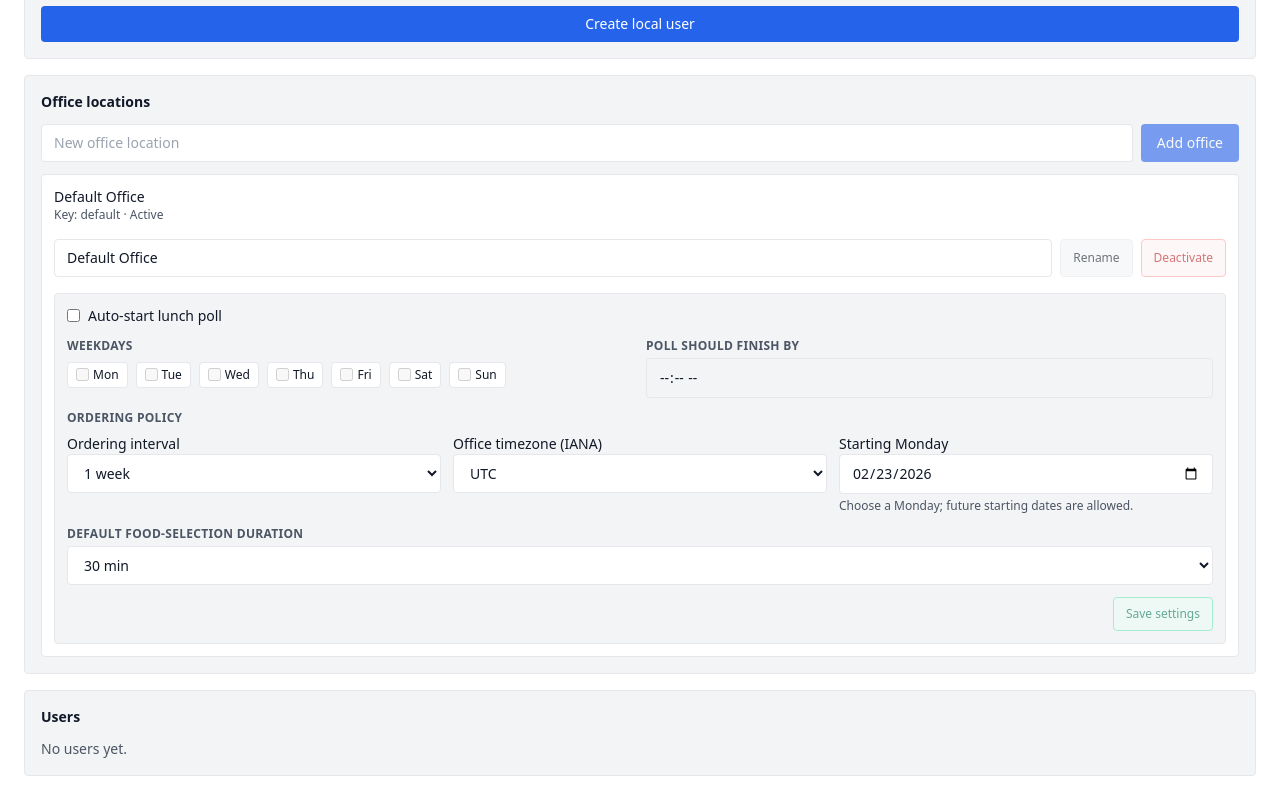
Test: Administration ordering policy persistence › detects changes and reversions independently for all policy fields
The image size is (1280, 800).
(page scrolled)
Step 1. Select "2 weeks" in the dropdown named "Ordering interval for default" → (254, 473), box [67,454,441,492]
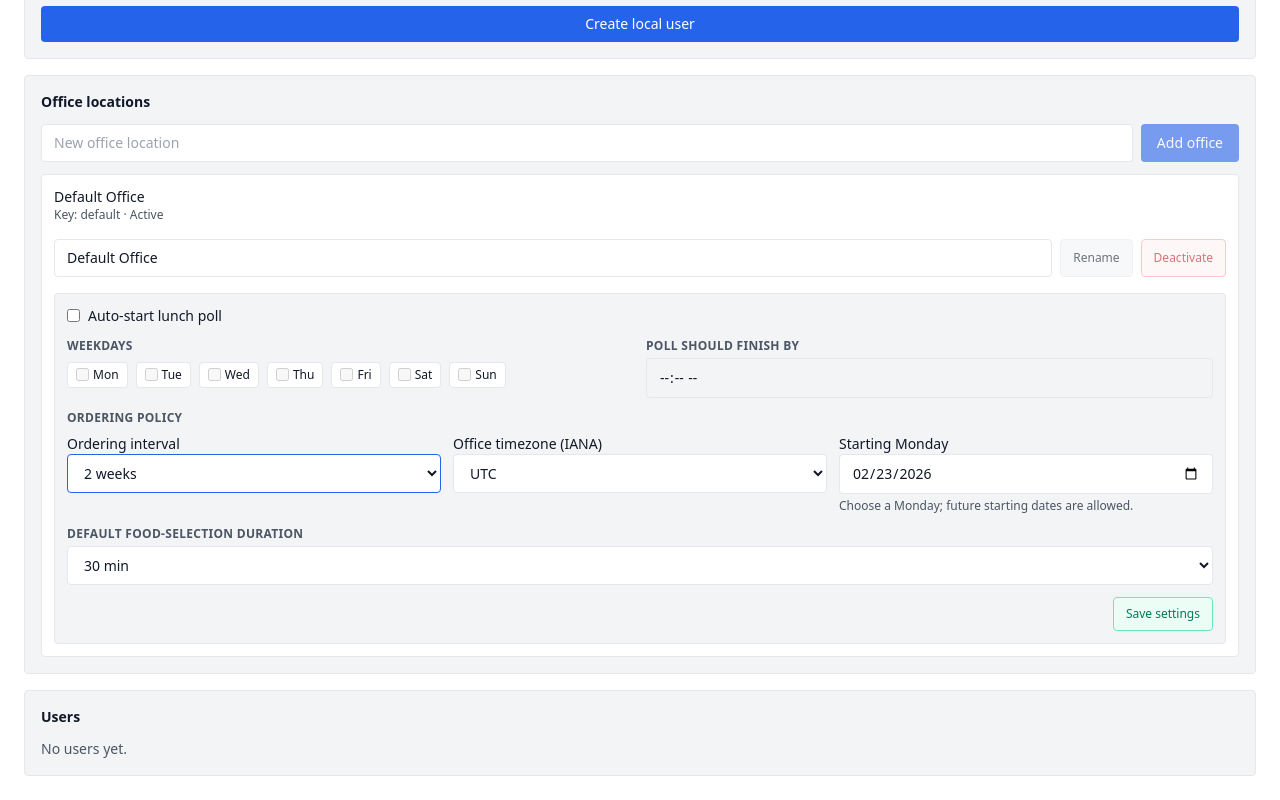
Check: the button with aria-label "Save office settings for default" is enabled, box [1113,596,1213,630]
Step 2. Select "1 week" in the dropdown named "Ordering interval for default" → (254, 473), box [67,454,441,492]
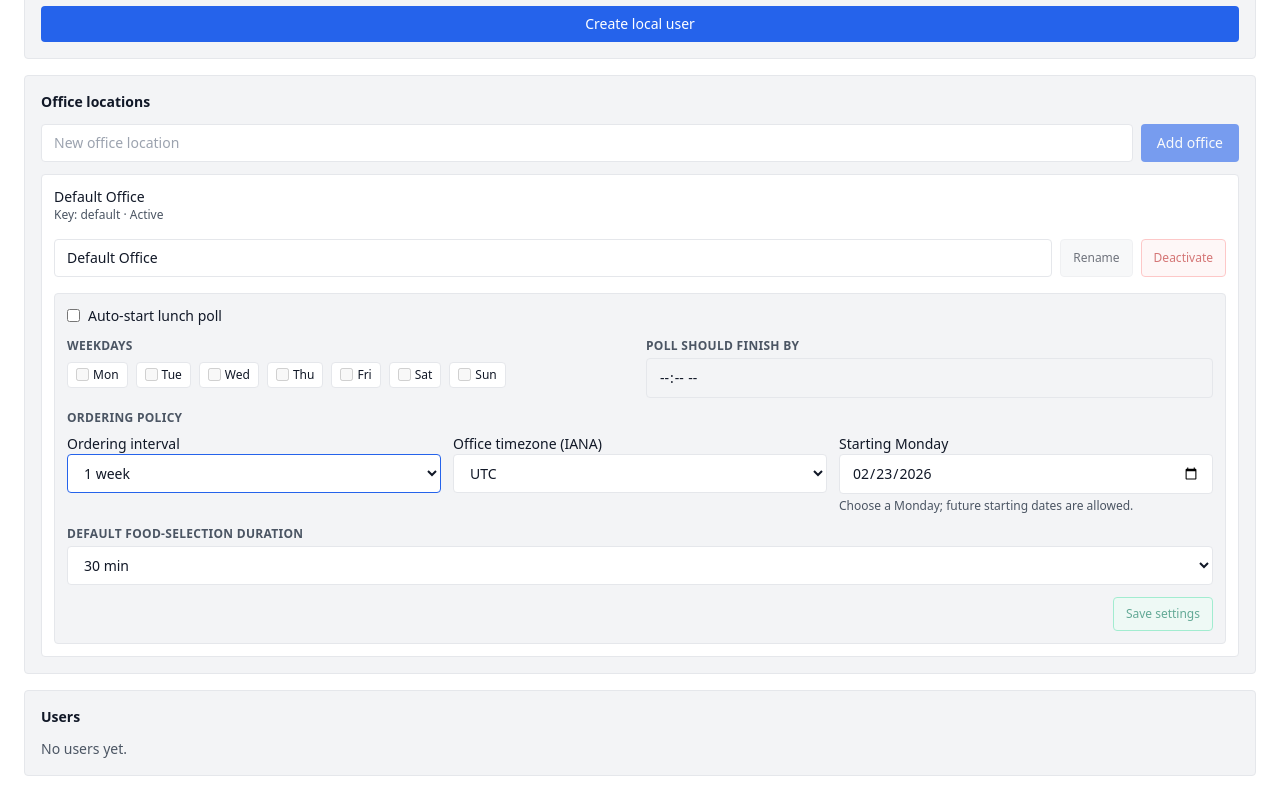
Check: the button with aria-label "Save office settings for default" is disabled, box [1113,596,1213,630]
Step 3. Select "Europe/Vienna" in the dropdown named "Office timezone for default" → (640, 473), box [453,454,827,492]
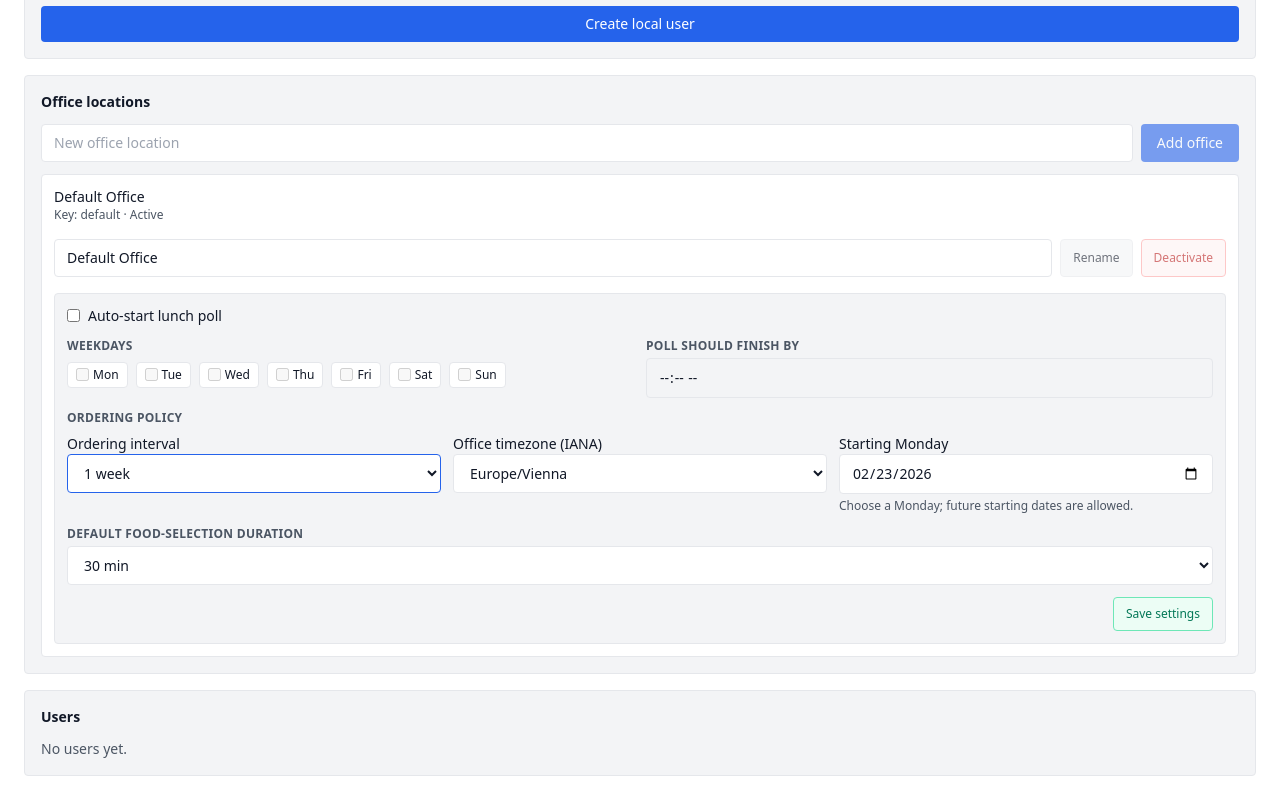
Check: the button with aria-label "Save office settings for default" is enabled, box [1113,596,1213,630]
Step 4. Select "UTC" in the dropdown named "Office timezone for default" → (640, 473), box [453,454,827,492]
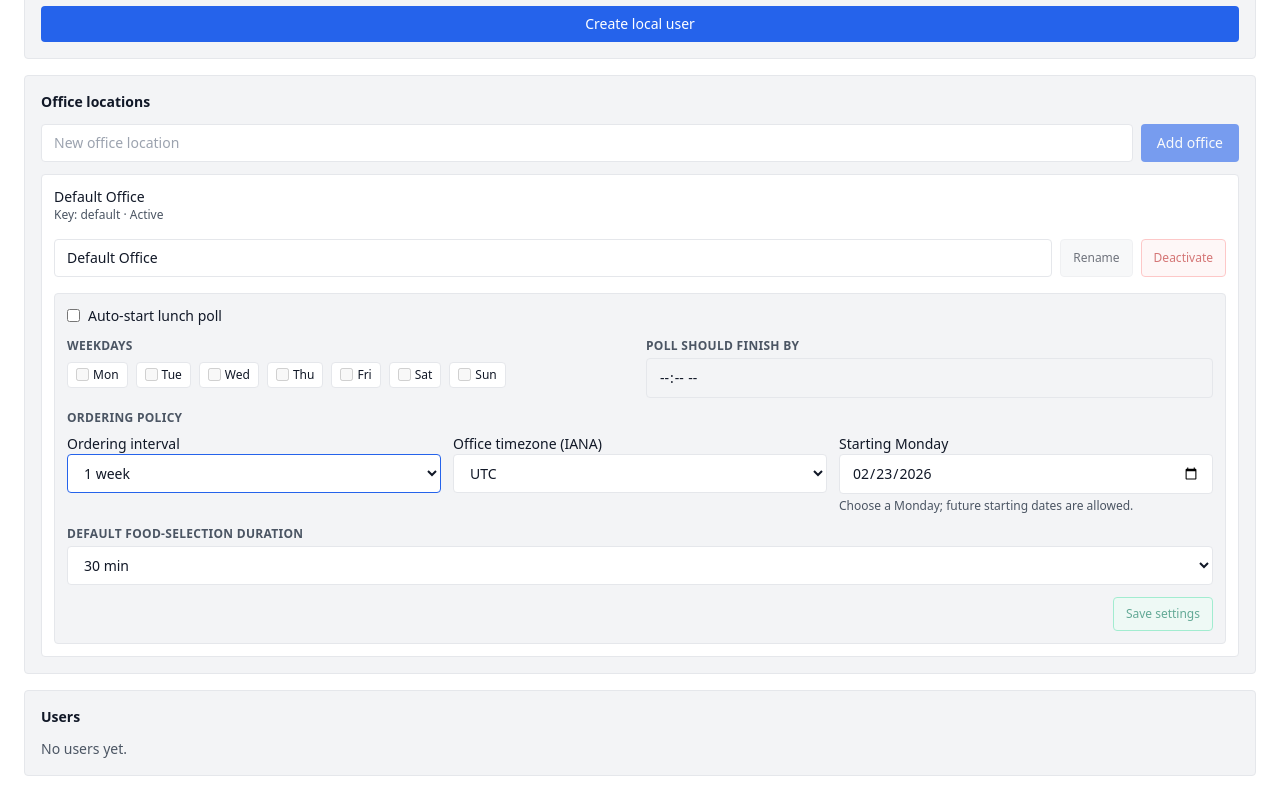
Check: the button with aria-label "Save office settings for default" is disabled, box [1113,596,1213,630]
Step 5. Type "2099-03-02" into the date field named "Ordering anchor date for default" → (1026, 474), box [839,454,1213,494]
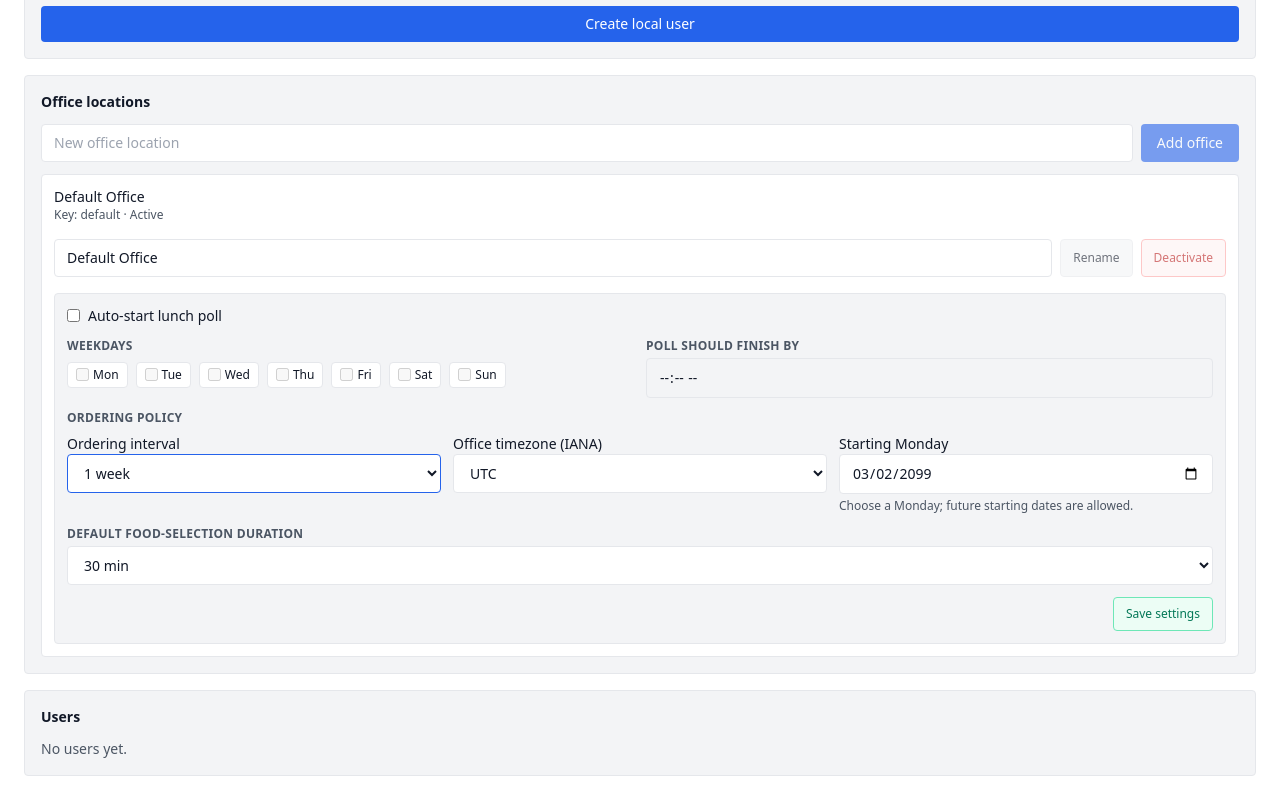
Check: the button with aria-label "Save office settings for default" is enabled, box [1113,596,1213,630]
Step 6. Type "2026-02-23" into the date field named "Ordering anchor date for default" → (1026, 474), box [839,454,1213,494]
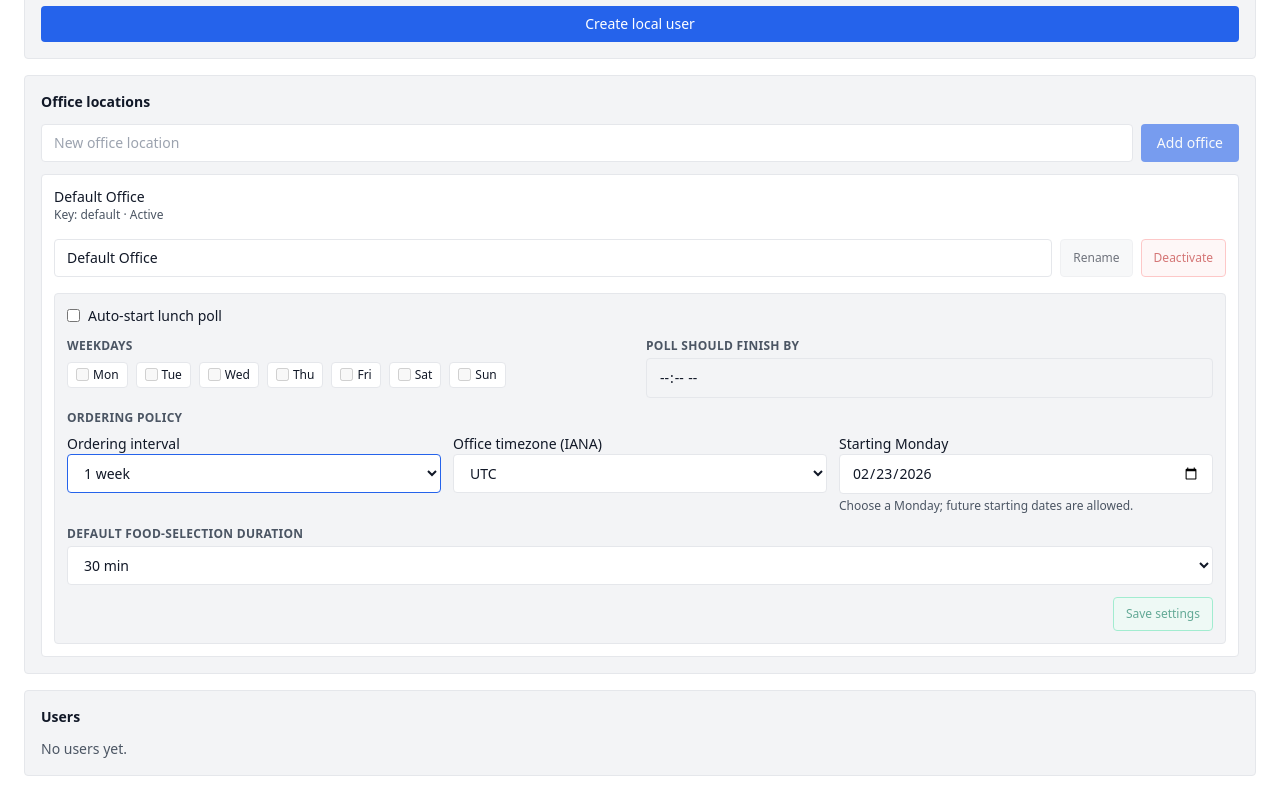
Check: the button with aria-label "Save office settings for default" is disabled, box [1113,596,1213,630]
